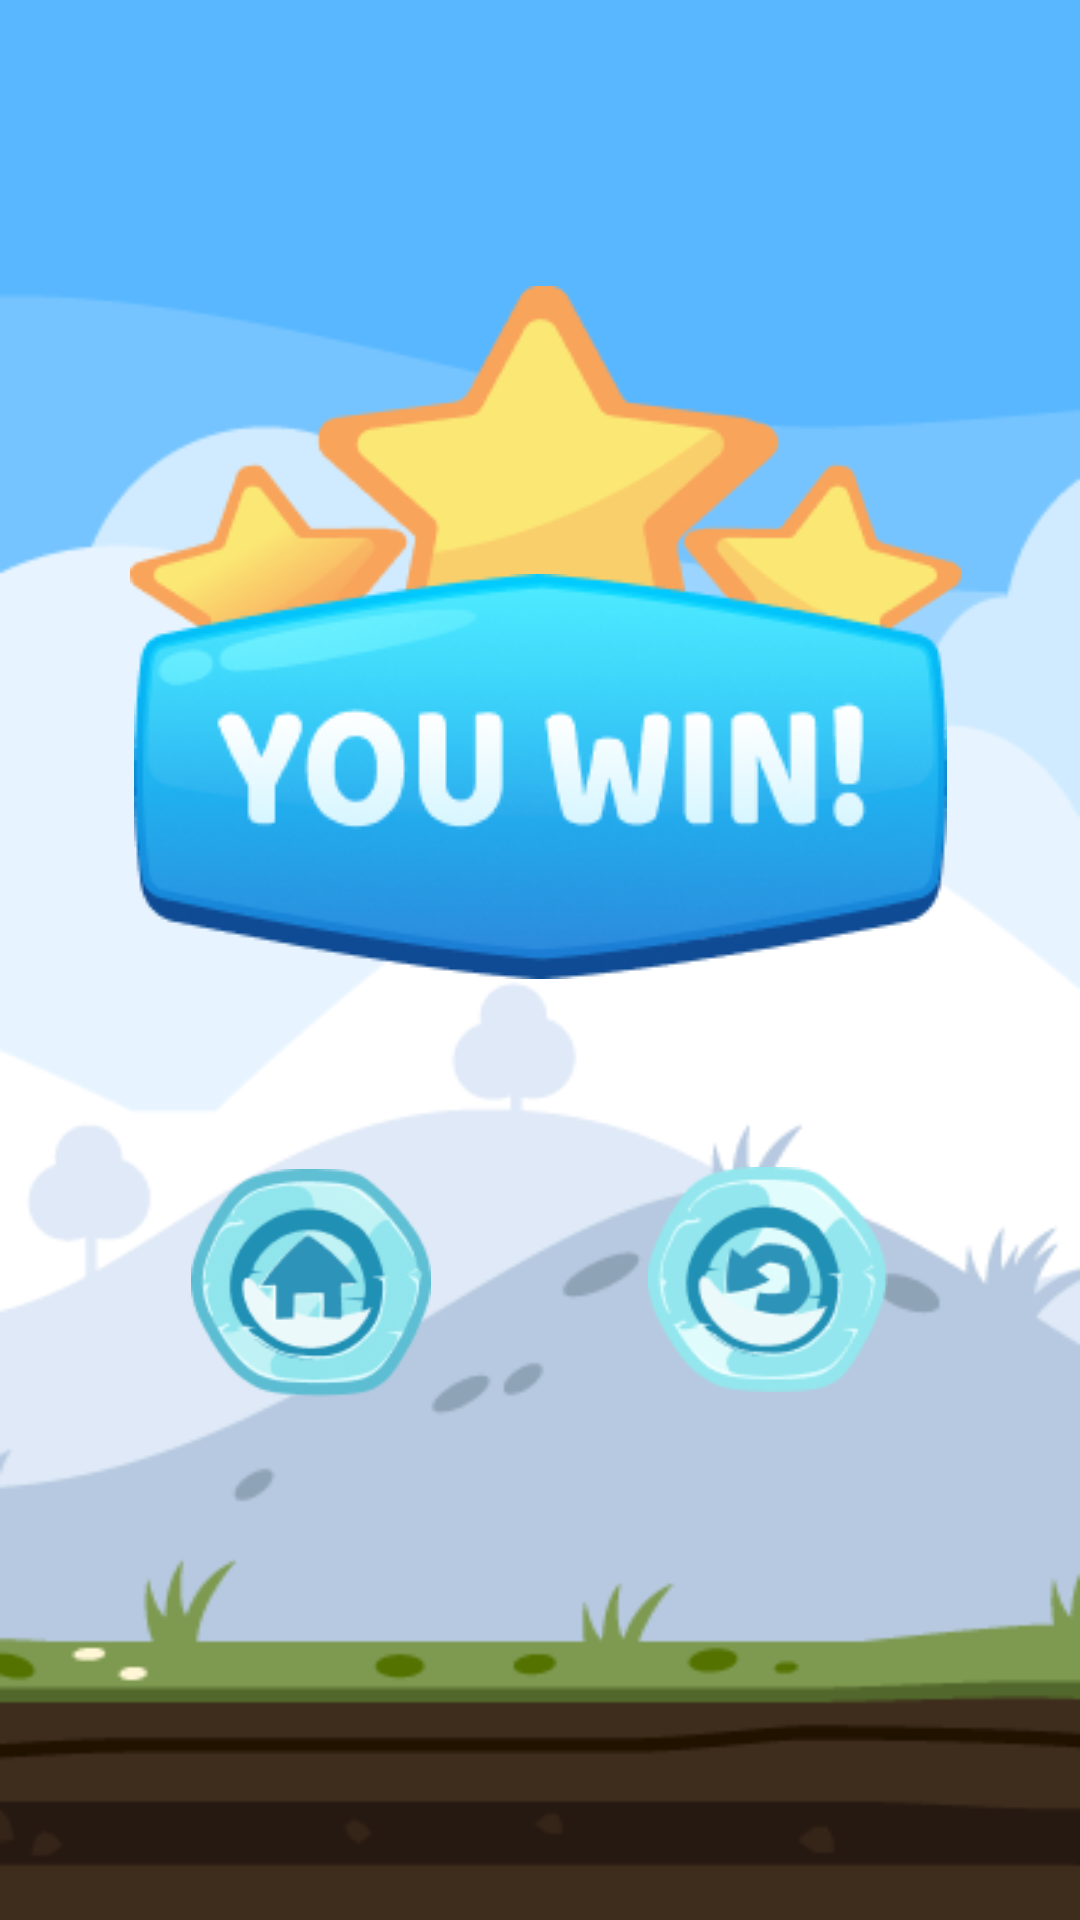

Screen size 1080×1920. Icon name, then its center in pixels as (x=x, y=y):
home: (x=311, y=1283)
restart: (x=768, y=1269)
